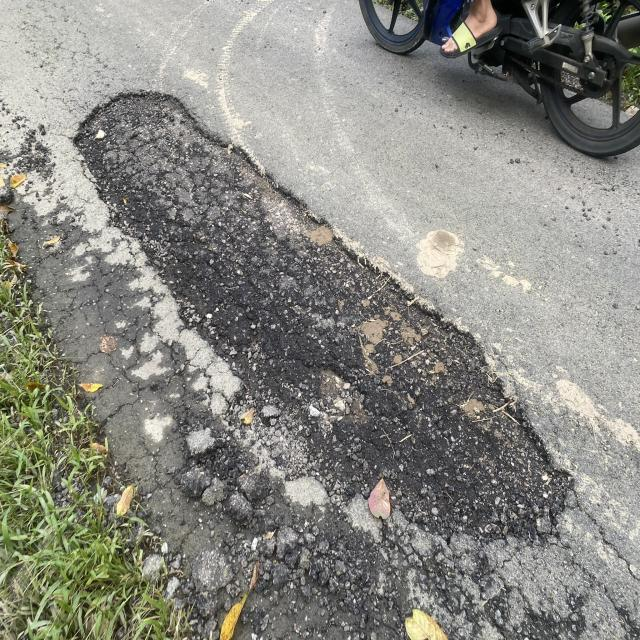Pothole: (41, 77, 616, 628)
